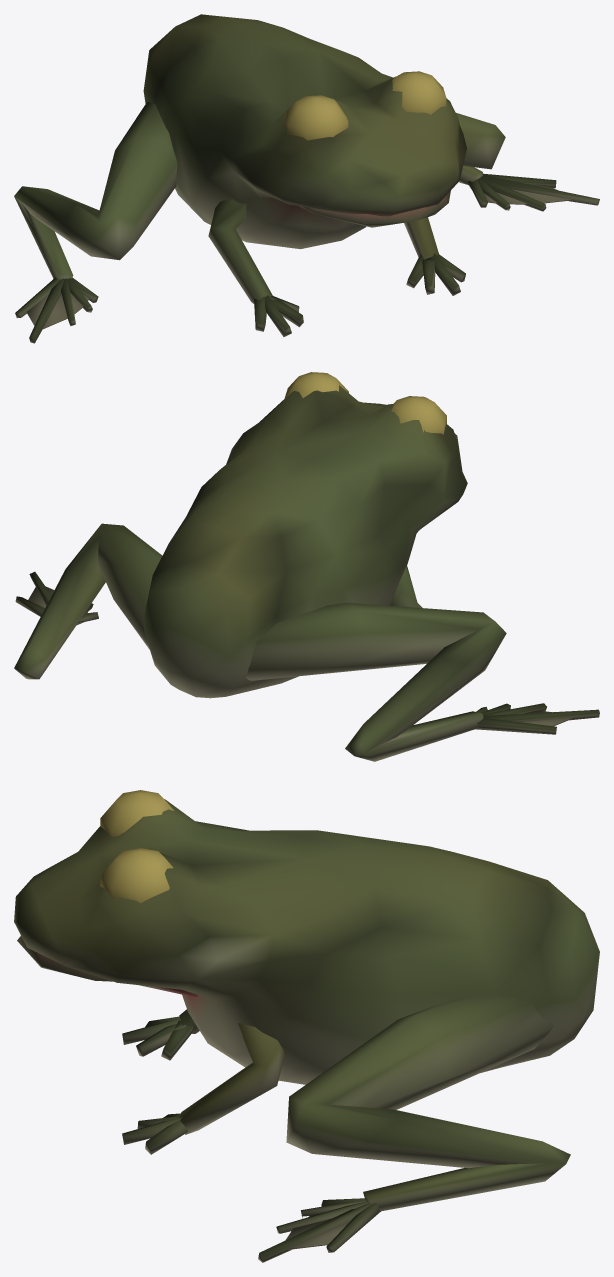
File: frog.glb
3 views of the same model, one above another, from view 1: azimuth 30°, elevation 25°; view 2: azimuth 150°, elevation 25°; view 3: azimuth 270°, elevation 25° (orthographic). The views are drawn at different scales.
Visible parts, largest first — view 1: frog; view 2: frog; view 3: frog.
Boxes of the visible parts, box(x1,y1,x2,y2) form: frog: box(14, 14, 599, 343); frog: box(14, 372, 599, 761); frog: box(14, 790, 599, 1262).
Bounding box in the file's own units: 1.39 × 0.5243 × 1.02.
